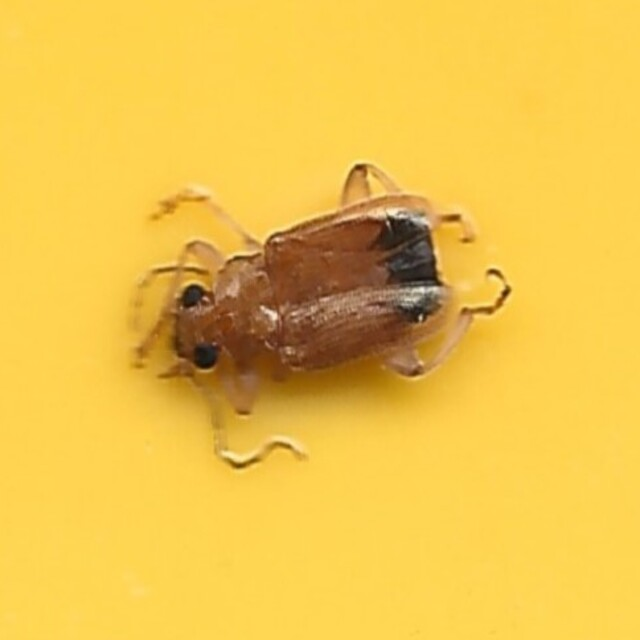Coleoptera: (132, 161, 508, 479)
